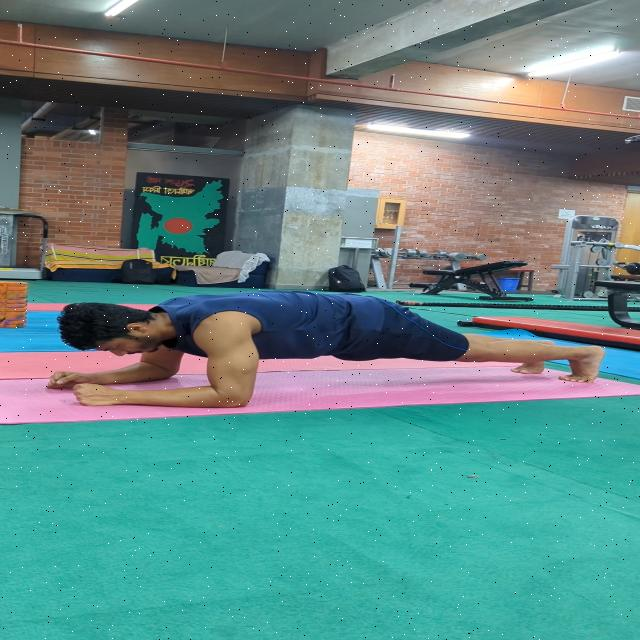Normal_Plunk: (24, 289, 626, 435)
